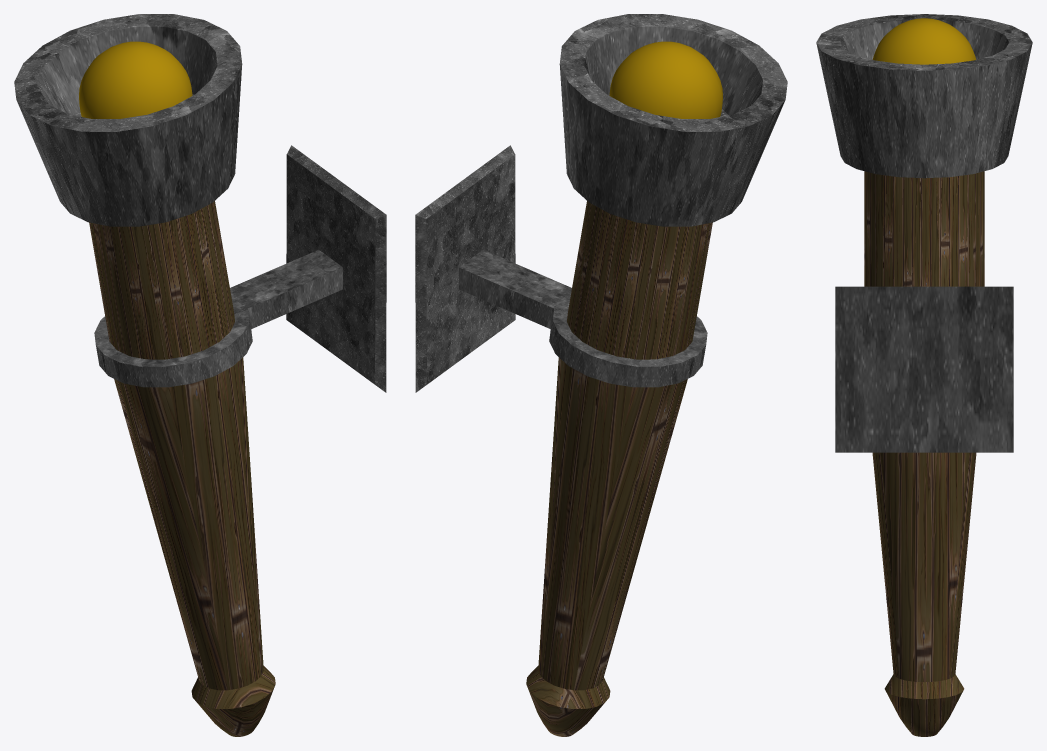
File: torch.fbx
The picture shows the model from 3 angles, left to right: view 1: azimuth 30°, elevation 25°; view 2: azimuth 150°, elevation 25°; view 3: azimuth 270°, elevation 25°; orthographic projection. The views are drawn at different scales.
Visible parts, largest first — view 1: Torch, fire; view 2: Torch, fire; view 3: Torch, fire.
Boxes of the visible parts, box(x1,y1,x2,y2) form: Torch: box(14, 14, 386, 736); fire: box(79, 41, 192, 118); Torch: box(415, 14, 787, 736); fire: box(609, 41, 722, 118); Torch: box(816, 14, 1032, 736); fire: box(872, 18, 976, 64).
Size of the model in its own units: 9.66 by 21.2 by 6.26.
